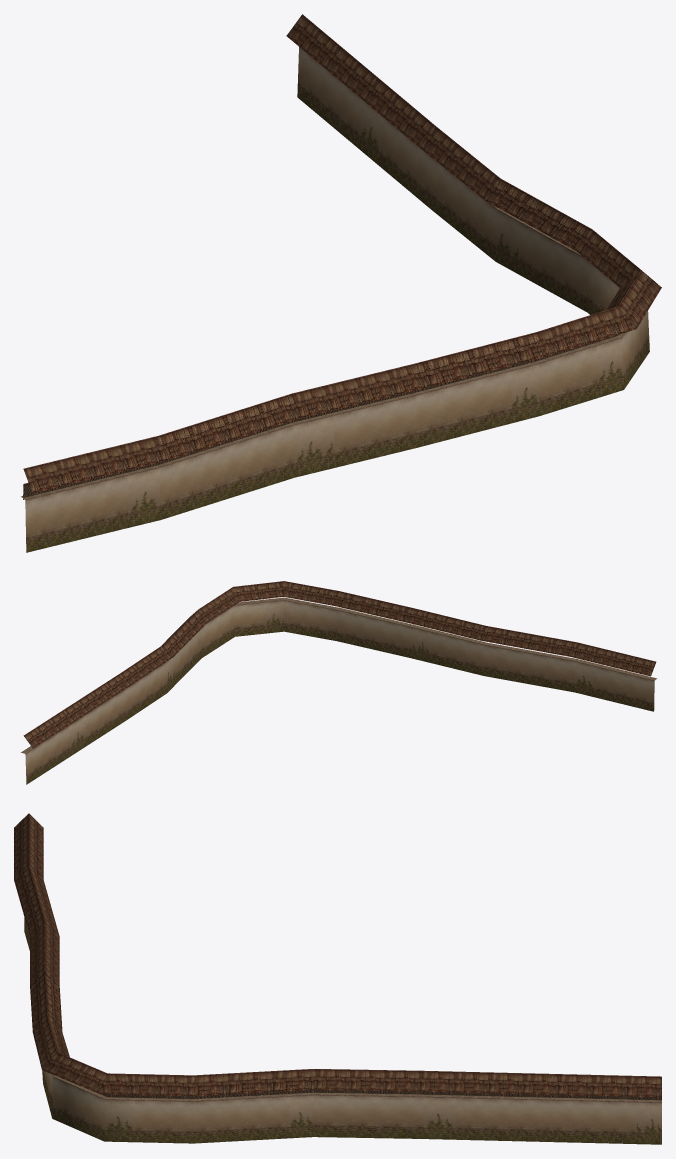
Rendered from ti_wall_a.glb.
3 renders of one model, top to bottom at view 1: azimuth 30°, elevation 25°; view 2: azimuth 150°, elevation 25°; view 3: azimuth 270°, elevation 25°, orthographic. The views are drawn at different scales.
Parts seen in each view (by area): view 1: TI_Wall_A; view 2: TI_Wall_A; view 3: TI_Wall_A.
Boxes of the visible parts, left/top/right/bottom form: TI_Wall_A: left=21, top=14, right=661, bottom=552; TI_Wall_A: left=21, top=581, right=657, bottom=784; TI_Wall_A: left=14, top=813, right=661, bottom=1144.
Size of the model in its own units: 23.67 by 2.69 by 24.04.
6 materials, 6 textured.
